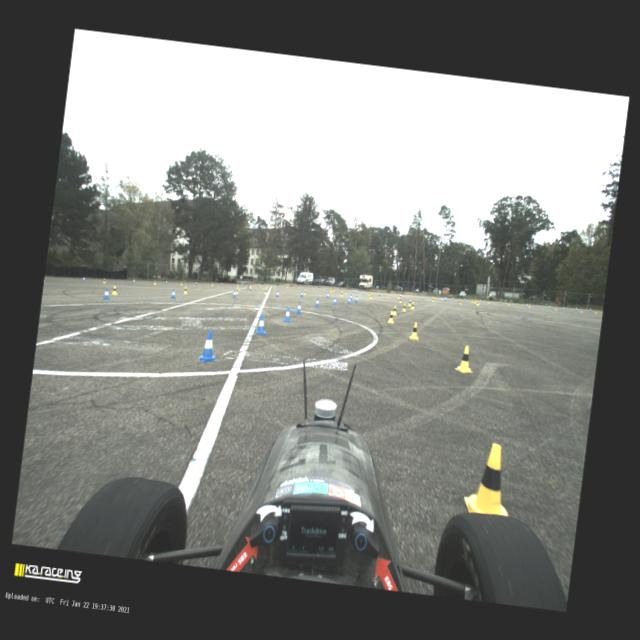blue_cone: (197, 329, 220, 364), (254, 313, 268, 335), (283, 307, 292, 322), (102, 288, 111, 300), (295, 302, 302, 314), (314, 297, 320, 307), (170, 288, 176, 298), (346, 296, 351, 304), (232, 290, 236, 298), (332, 296, 336, 304), (276, 290, 280, 297), (299, 290, 303, 296), (325, 292, 329, 298), (354, 296, 358, 302), (82, 277, 85, 281), (165, 280, 168, 284), (132, 278, 134, 282), (241, 282, 243, 286), (378, 292, 380, 296), (399, 294, 401, 298), (422, 296, 424, 300), (440, 297, 442, 301), (562, 306, 564, 310), (589, 308, 591, 312), (194, 282, 197, 284), (220, 282, 222, 285), (284, 284, 286, 287), (362, 291, 364, 294), (443, 298, 445, 301), (444, 297, 446, 300), (451, 297, 453, 300), (463, 298, 465, 301), (498, 302, 501, 304), (526, 303, 528, 306), (575, 307, 577, 310), (354, 290, 356, 292), (548, 306, 550, 308), (479, 299, 480, 302), (300, 286, 301, 288), (315, 286, 316, 288), (326, 288, 327, 290), (348, 289, 349, 291), (337, 288, 338, 290), (352, 289, 353, 291), (258, 284, 258, 286), (272, 284, 272, 287), (354, 290, 354, 292), (356, 290, 356, 293)
yellow_cone: (462, 440, 515, 516), (454, 344, 476, 374), (408, 320, 421, 340), (387, 309, 395, 323), (110, 284, 118, 294), (401, 302, 407, 312), (392, 305, 398, 315), (182, 286, 188, 294), (410, 302, 415, 310), (368, 293, 374, 299), (339, 290, 344, 296), (408, 299, 412, 306), (263, 288, 267, 294), (234, 288, 238, 294), (398, 297, 402, 303), (102, 278, 106, 283), (475, 300, 478, 306), (431, 297, 434, 302), (153, 280, 156, 284), (303, 290, 306, 294), (329, 288, 332, 292), (458, 300, 461, 304), (180, 281, 182, 285), (211, 282, 213, 286), (236, 282, 238, 286), (259, 284, 261, 288), (286, 284, 288, 288), (344, 290, 346, 294), (368, 292, 370, 296), (397, 294, 399, 298), (478, 300, 480, 304), (488, 300, 490, 304), (528, 304, 530, 308), (580, 308, 582, 312), (274, 284, 276, 287), (312, 286, 314, 289), (324, 287, 326, 290), (332, 288, 334, 291), (474, 300, 476, 303), (471, 299, 473, 302), (474, 299, 476, 302), (555, 306, 557, 309), (594, 310, 596, 313), (330, 288, 331, 292), (508, 302, 509, 305)
